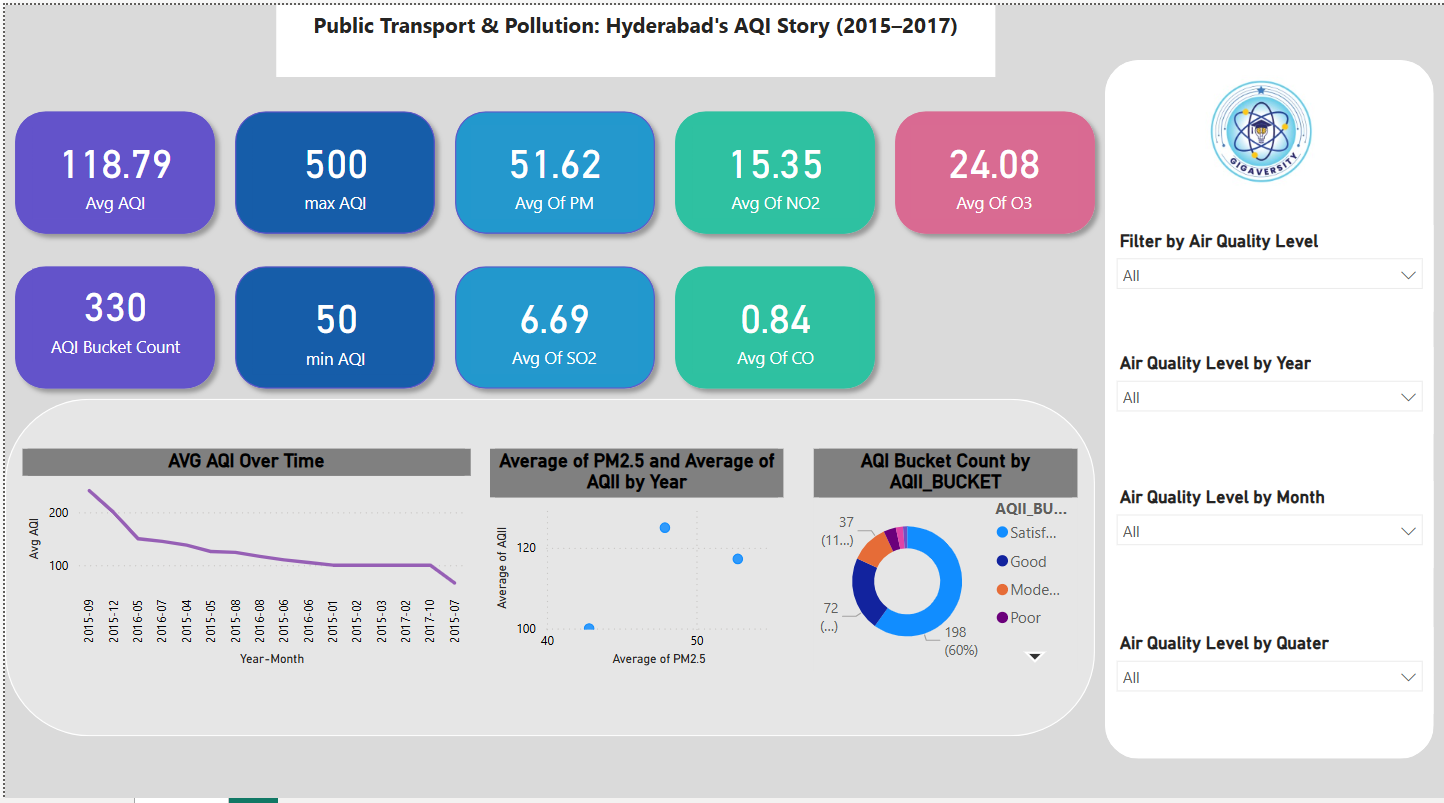

What the dashboard file says about the page in this screenshot:
{"tool":"powerbi","page":{"name":"Page 1","canvas":[1280,720],"ordinal":0},"visuals":[{"type":"shape","box":[0,85.6,195.6,126.7],"z":0},{"type":"card","fields":{"Values":["City_day.Avg AQI"]},"box":[24.4,106.7,147.8,83.3],"z":1000},{"type":"shape","box":[0,223.3,195.6,126.7],"z":2000},{"type":"card","fields":{"Values":["City_day.AQI Bucket Count"]},"box":[24.4,234.4,147.8,83.3],"z":3000},{"type":"shape","box":[195.6,85.6,195.6,126.7],"z":4000},{"type":"card","fields":{"Values":["City_day.max AQI"]},"box":[220,106.7,147.8,83.3],"z":5000},{"type":"shape","box":[195.6,223.3,195.6,126.7],"z":6000},{"type":"card","fields":{"Values":["City_day.min AQI"]},"box":[220,244,148,84],"z":7000},{"type":"shape","box":[391.1,85.6,195.6,126.7],"z":8000},{"type":"shape","box":[391.1,223.3,195.6,126.7],"z":9000},{"type":"card","fields":{"Values":["City_day.Avg Of PM"]},"box":[414.4,106.7,147.8,83.3],"z":10000},{"type":"card","fields":{"Values":["City_day.Avg Of SO2"]},"box":[414.4,244.4,147.8,83.3],"z":11000},{"type":"shape","box":[586.7,223.3,195.6,126.7],"z":12000},{"type":"shape","box":[586.7,85.6,195.6,126.7],"z":13000},{"type":"card","fields":{"Values":["City_day.Avg Of NO2"]},"box":[611.1,106.7,147.8,83.3],"z":14000},{"type":"card","fields":{"Values":["City_day.Avg Of CO"]},"box":[611.1,244.4,147.8,83.3],"z":15000},{"type":"shape","box":[782.2,85.6,195.6,126.7],"z":16000},{"type":"card","fields":{"Values":["City_day.Avg Of O3"]},"box":[805.6,106.7,147.8,83.3],"z":17000},{"type":"shape","box":[977.8,48.9,292.2,621.1],"z":18000},{"type":"slicer","fields":{"Values":["City_day.AQII_BUCKET"]},"box":[977.8,195.6,292.2,76.7],"z":19000},{"type":"slicer","fields":{"Values":["DateTable.Year"]},"box":[977.8,304.4,292.2,76.7],"z":20000},{"type":"shape","box":[0,350,968.9,300],"z":21000},{"type":"scatterChart","fields":{"X":["Avg(City_day.PM2.5)"],"Y":["Avg(City_day.AQII)"],"Category":["DateTable.Date.Variation.Date Hierarchy.Year","DateTable.Date.Variation.Date Hierarchy.Month"]},"box":[431.1,394.4,261.1,197.8],"z":22000},{"type":"donutChart","fields":{"Category":["City_day.AQII_BUCKET"],"Y":["City_day.AQI Bucket Count"]},"box":[718.9,394.4,234.4,197.8],"z":23000},{"type":"lineChart","title":"AVG AQI Over Time","fields":{"Y":["City_day.Avg AQI"],"Category":["DateTable.Year-Month"]},"box":[16,394,398,198],"z":24000},{"type":"slicer","fields":{"Values":["DateTable.Month"]},"box":[977.8,423.3,292.2,76.7],"z":25000},{"type":"textbox","box":[241,0,639,64],"z":26000},{"type":"slicer","fields":{"Values":["DateTable.Quarter"]},"box":[977.8,553.3,292.2,76.7],"z":27000},{"type":"image","box":[1013.3,54.4,207.8,112.2],"z":27001}]}

Visuals, with their boxes in screenshot pixels (x1, y1, x2, y2), scaled from the page's 1280x720 canvas onto the 1444x803 screenshot:
shape: (left=0, top=95, right=221, bottom=237)
card - City_day.Avg AQI: (left=28, top=119, right=194, bottom=212)
shape: (left=0, top=249, right=221, bottom=390)
card - City_day.AQI Bucket Count: (left=28, top=261, right=194, bottom=354)
shape: (left=221, top=95, right=441, bottom=237)
card - City_day.max AQI: (left=248, top=119, right=415, bottom=212)
shape: (left=221, top=249, right=441, bottom=390)
card - City_day.min AQI: (left=248, top=272, right=415, bottom=366)
shape: (left=441, top=95, right=662, bottom=237)
shape: (left=441, top=249, right=662, bottom=390)
card - City_day.Avg Of PM: (left=467, top=119, right=634, bottom=212)
card - City_day.Avg Of SO2: (left=467, top=273, right=634, bottom=365)
shape: (left=662, top=249, right=883, bottom=390)
shape: (left=662, top=95, right=883, bottom=237)
card - City_day.Avg Of NO2: (left=689, top=119, right=856, bottom=212)
card - City_day.Avg Of CO: (left=689, top=273, right=856, bottom=365)
shape: (left=882, top=95, right=1103, bottom=237)
card - City_day.Avg Of O3: (left=909, top=119, right=1076, bottom=212)
shape: (left=1103, top=55, right=1433, bottom=747)
slicer - City_day.AQII_BUCKET: (left=1103, top=218, right=1433, bottom=304)
slicer - DateTable.Year: (left=1103, top=339, right=1433, bottom=425)
shape: (left=0, top=390, right=1093, bottom=725)
scatterChart - Avg(City_day.PM2.5) x Avg(City_day.AQII): (left=486, top=440, right=781, bottom=660)
donutChart - City_day.AQII_BUCKET x City_day.AQI Bucket Count: (left=811, top=440, right=1075, bottom=660)
"AVG AQI Over Time" lineChart: (left=18, top=439, right=467, bottom=660)
slicer - DateTable.Month: (left=1103, top=472, right=1433, bottom=558)
textbox: (left=272, top=0, right=993, bottom=71)
slicer - DateTable.Quarter: (left=1103, top=617, right=1433, bottom=703)
image: (left=1143, top=61, right=1378, bottom=186)
